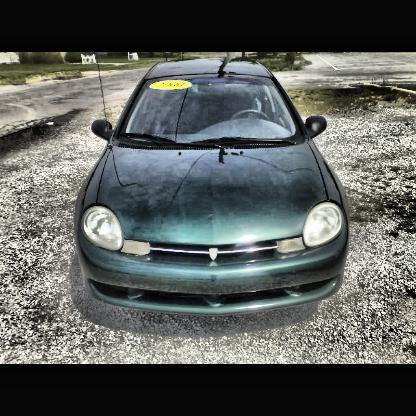Plymouth Neon Coupe 1999: (75, 61, 353, 322)
